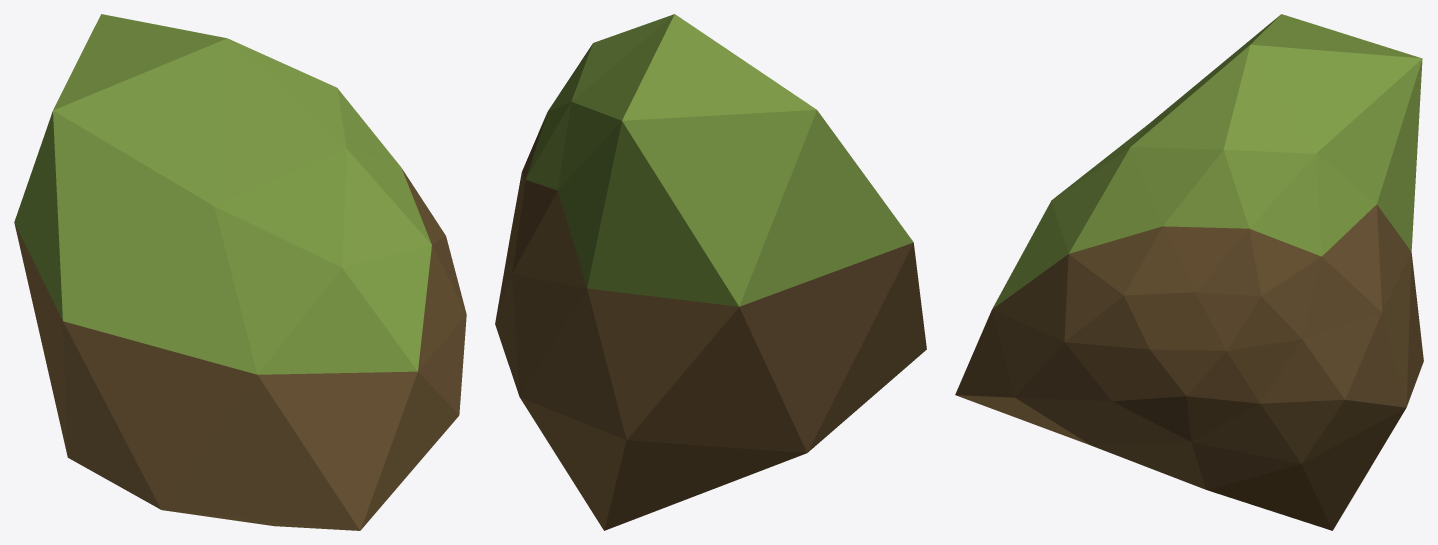
File: rock1.glb
The picture shows the model from 3 angles, left to right: view 1: azimuth 30°, elevation 25°; view 2: azimuth 150°, elevation 25°; view 3: azimuth 270°, elevation 25°; orthographic projection. The views are drawn at different scales.
Visible parts, largest first — view 1: Icosphere; view 2: Icosphere; view 3: Icosphere.
Boxes of the visible parts, box(x1,y1,x2,y2) form: Icosphere: box(14, 14, 466, 530); Icosphere: box(495, 14, 926, 530); Icosphere: box(955, 14, 1423, 530).
Bounding box in the file's own units: 3.94 × 5.09 × 4.57.
